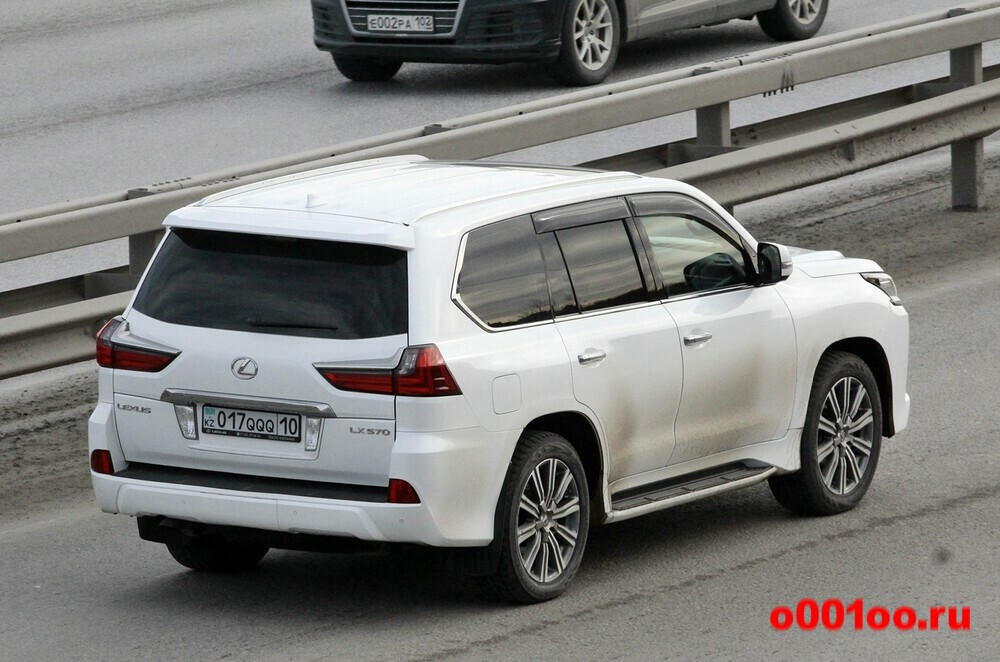license_plate: (199, 405, 303, 440)
